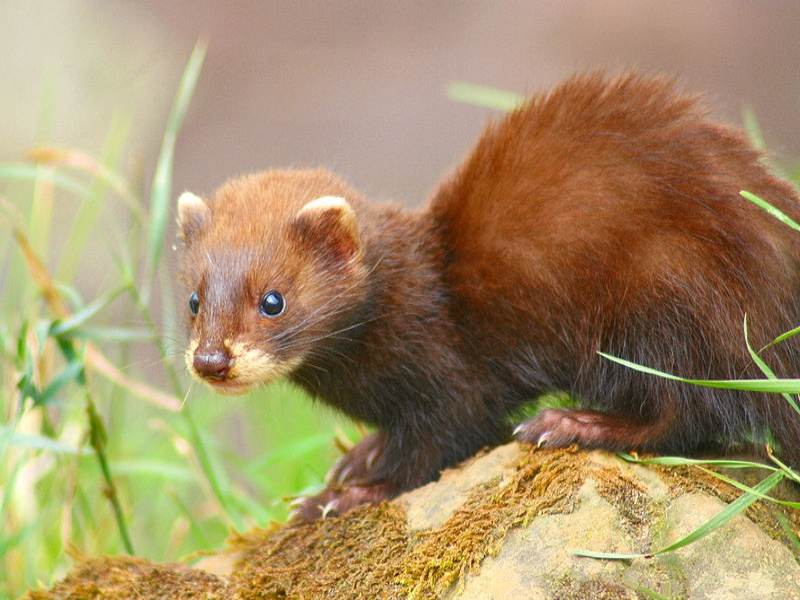minkish: (164, 60, 800, 509)
